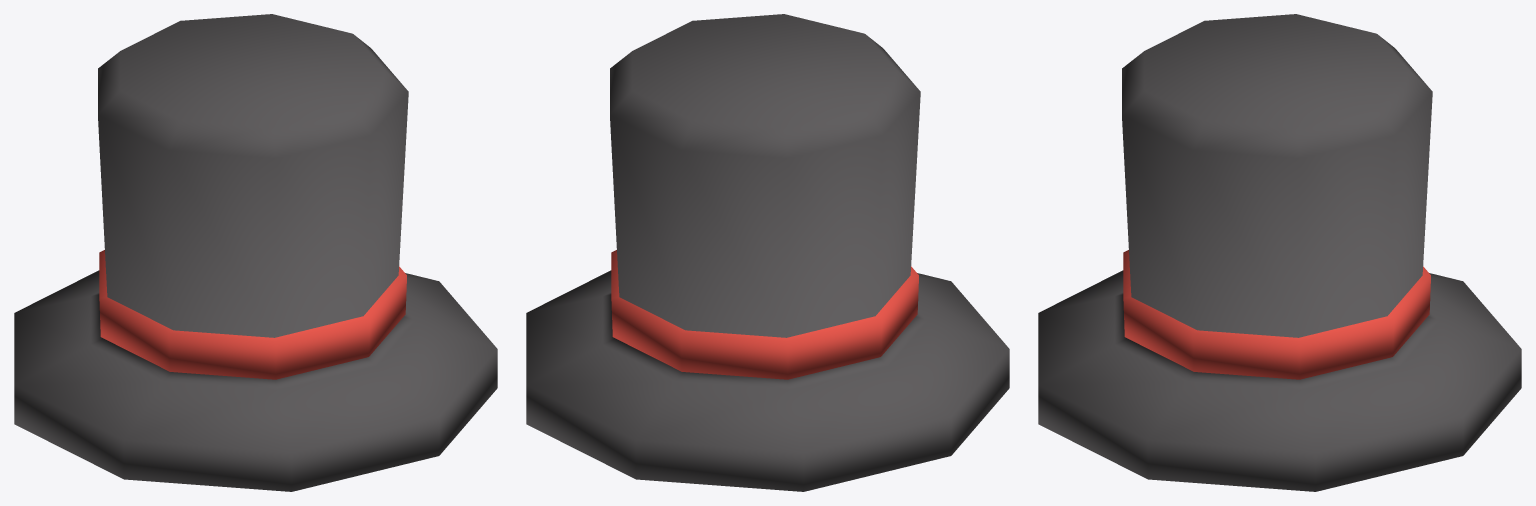
File: Zylinder.fbx
3 views of the same model, side by side, from view 1: azimuth 30°, elevation 25°; view 2: azimuth 150°, elevation 25°; view 3: azimuth 270°, elevation 25° (orthographic).
Visible parts, largest first — view 1: Cylinder.009; view 2: Cylinder.009; view 3: Cylinder.009.
Boxes of the visible parts, box(x1,y1,x2,y2) form: Cylinder.009: box(14, 14, 497, 491); Cylinder.009: box(526, 14, 1009, 491); Cylinder.009: box(1038, 14, 1521, 491).
Bounding box in the file's own units: 232 × 166 × 229.
